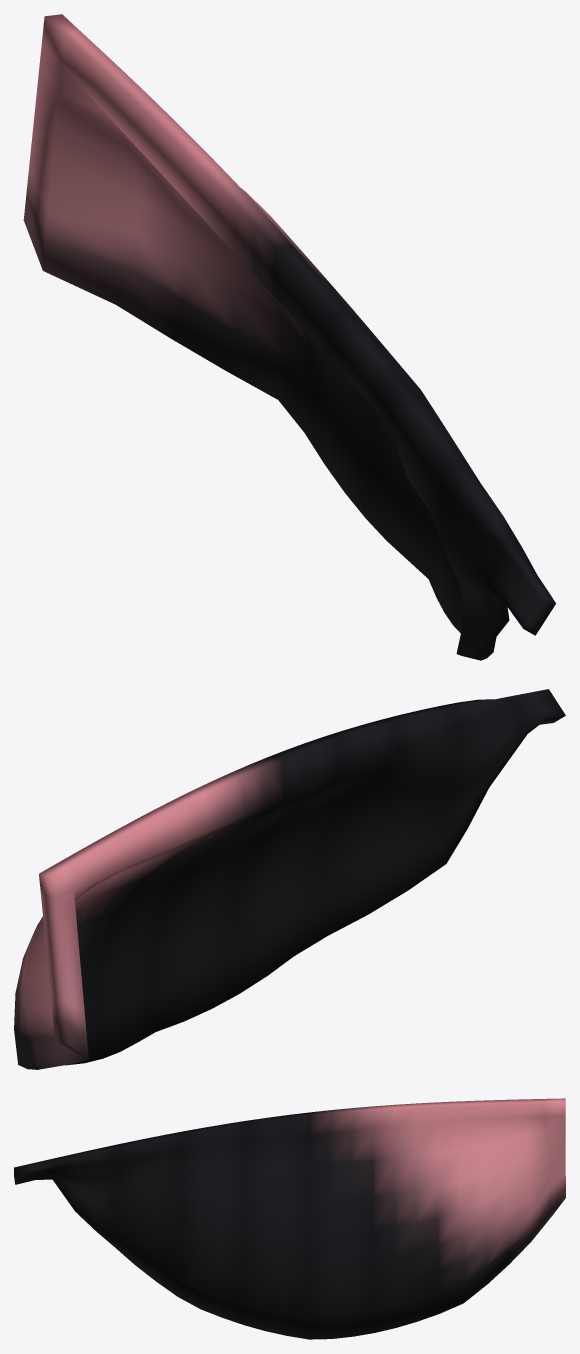
The model's file is Flamingo_WingFolded.fbx.
3 renders of one model, top to bottom at view 1: azimuth 30°, elevation 25°; view 2: azimuth 150°, elevation 25°; view 3: azimuth 270°, elevation 25°, orthographic. The views are drawn at different scales.
Visible parts, largest first — view 1: Flamingo_WingFolded; view 2: Flamingo_WingFolded; view 3: Flamingo_WingFolded.
Part boxes in pixels (x1=…): Flamingo_WingFolded: x1=23, y1=14, x2=555, y2=660; Flamingo_WingFolded: x1=14, y1=689, x2=565, y2=1069; Flamingo_WingFolded: x1=14, y1=1098, x2=565, y2=1339.
Bounding box in the file's own units: 2.63 × 4.52 × 11.01.
